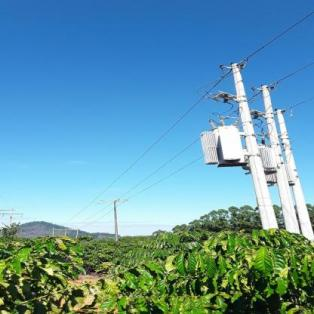Poste: (230, 60, 283, 231), (256, 84, 306, 234)
